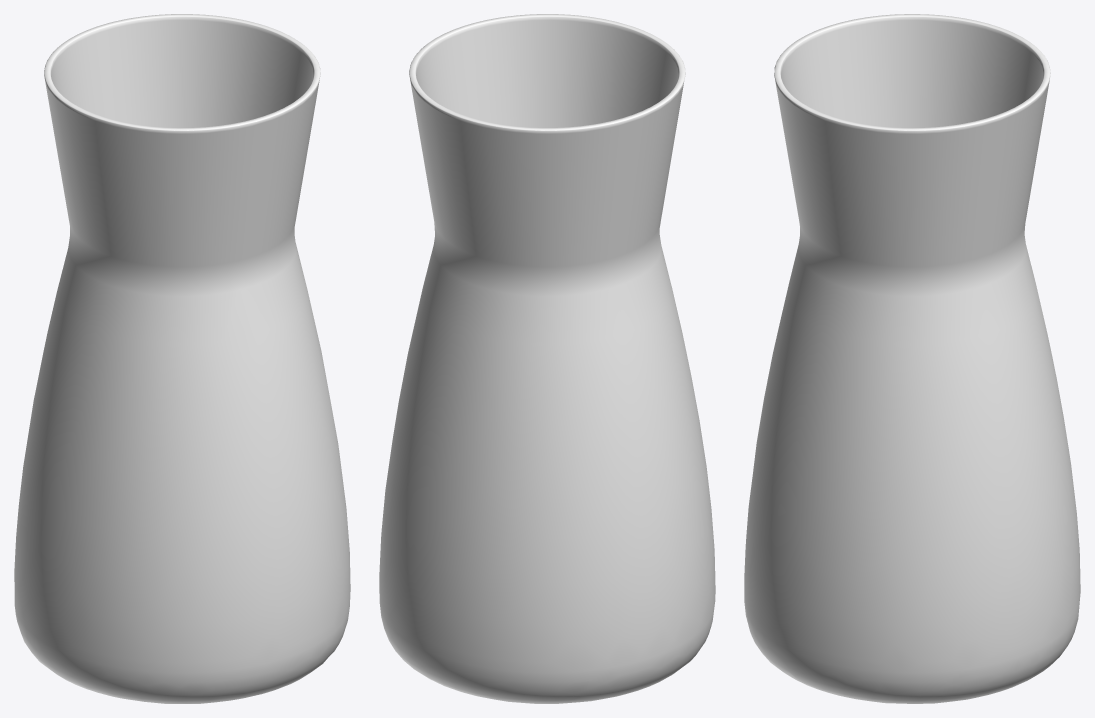
File: karaff_karafka_00342975.glb
3 renders of one model, left to right at view 1: azimuth 30°, elevation 25°; view 2: azimuth 150°, elevation 25°; view 3: azimuth 270°, elevation 25°, orthographic.
Visible parts, largest first — view 1: karaff_karafka_00342975; view 2: karaff_karafka_00342975; view 3: karaff_karafka_00342975.
Boxes of the visible parts, x1,y1,x2,y2 form: karaff_karafka_00342975: (14, 14, 350, 703); karaff_karafka_00342975: (379, 14, 715, 703); karaff_karafka_00342975: (744, 14, 1080, 703).
Size of the model in its own units: 0.105 by 0.199 by 0.1052.
1 material, 1 textured.
